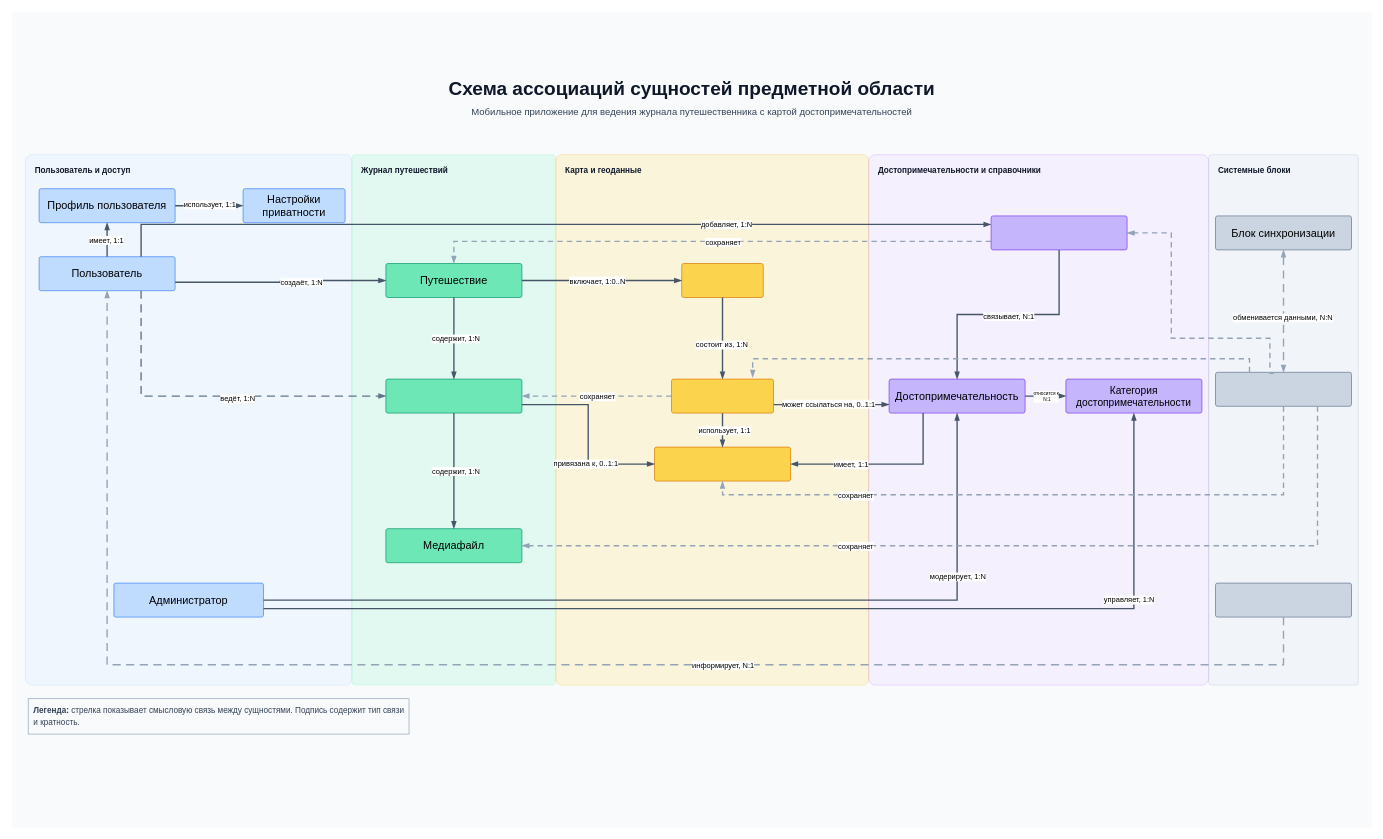
This 1383x839 diagram has some shape labels left out. Here are the shapes that lost their labels. From the top down, the centre of each, then its label:
pixel 1058 232: Избранное
pixel 722 280: Маршрут
pixel 453 395: Запись журнала
pixel 722 395: Точка маршрута
pixel 1283 389: Хранилище данных
pixel 722 463: Геометка
pixel 1283 599: Система уведомлений
